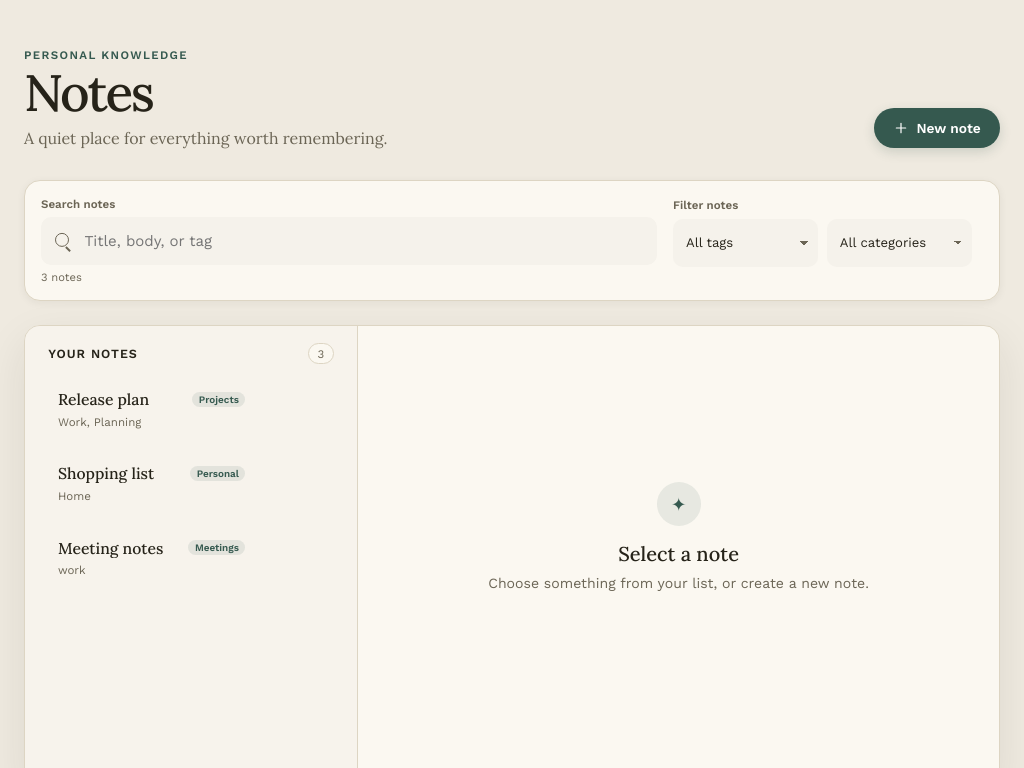
Test: App filtering interactions › restores selected-note details when filters are cleared
This screenshot has width=1024, height=768.
Click the button "Meeting notes Meetings work" at (150, 558), box x1=44 y1=525 x2=256 y2=590
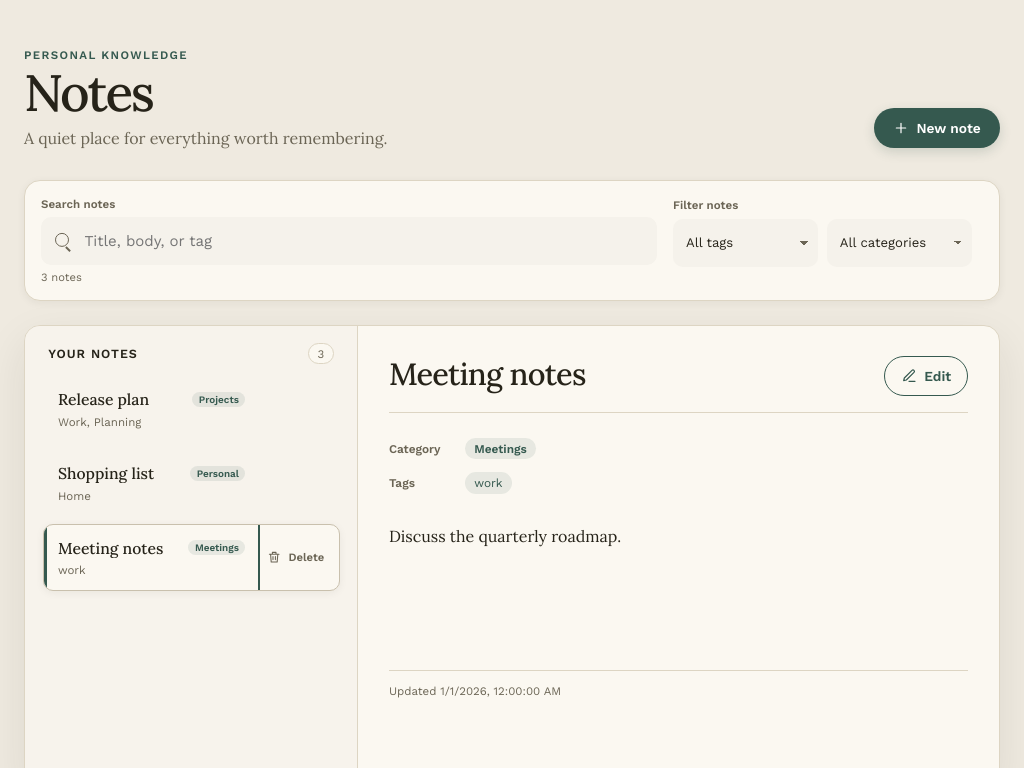
Select "Home" in the 1st dropdown named "Tag" at (746, 243), box x1=673 y1=219 x2=818 y2=267
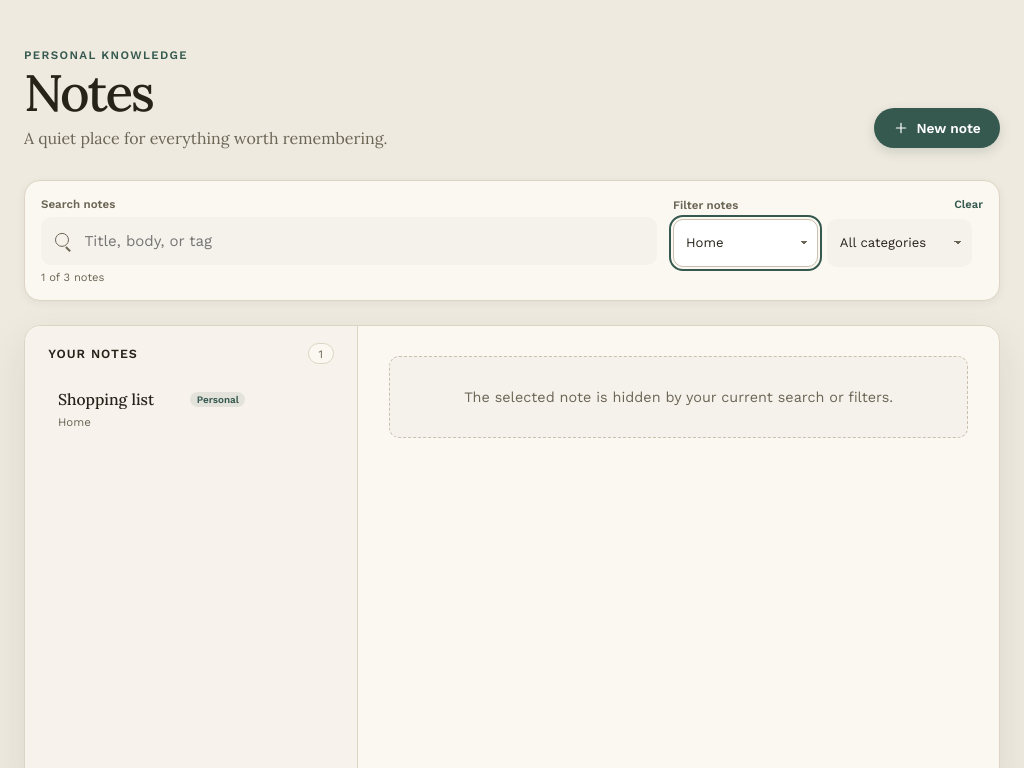
Click the button "Clear" at (969, 205), box x1=954 y1=198 x2=983 y2=211
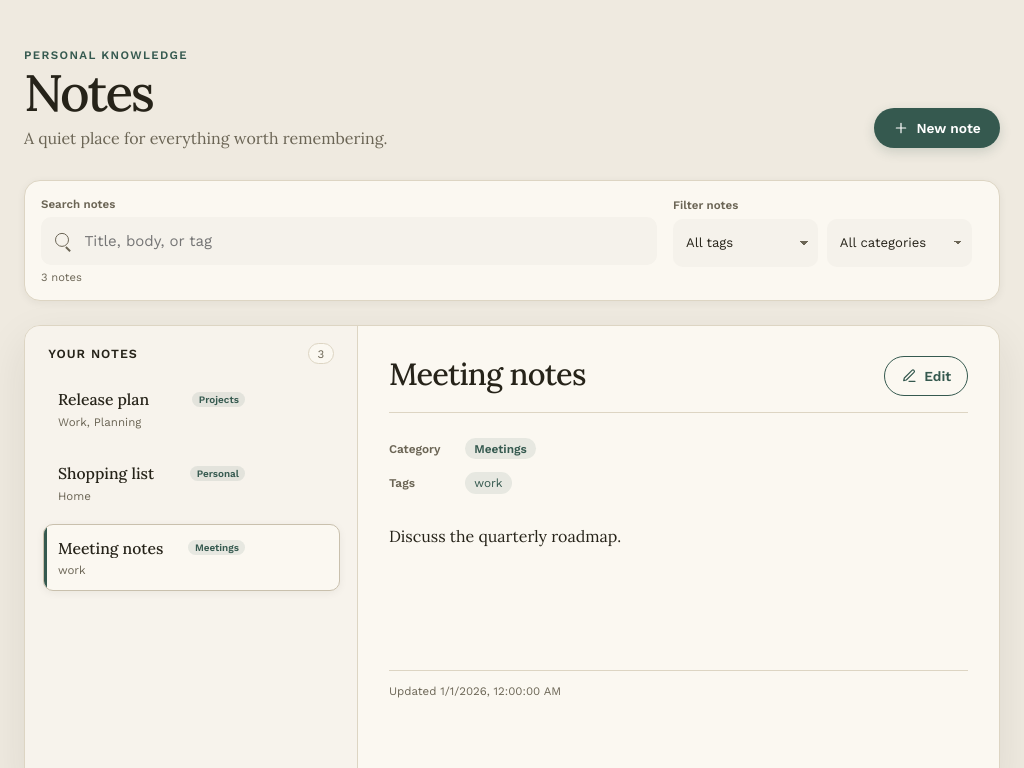
Now the heading "Meeting notes" is shown, box x1=389 y1=356 x2=586 y2=392
